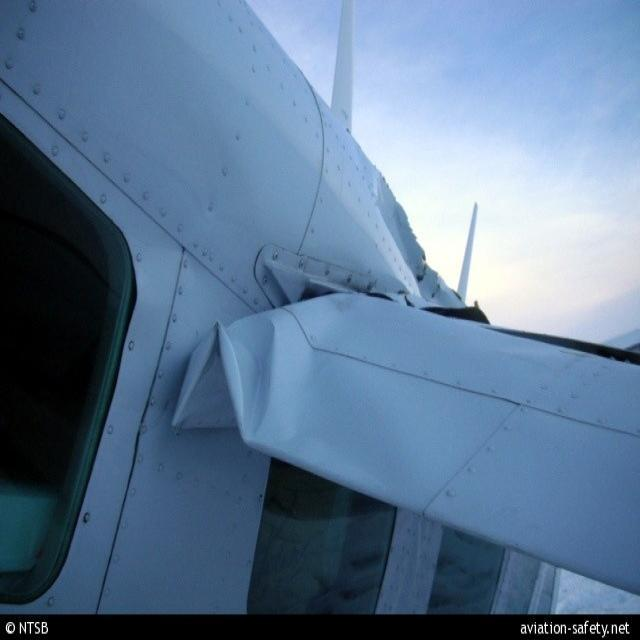dent: (162, 311, 285, 443)
